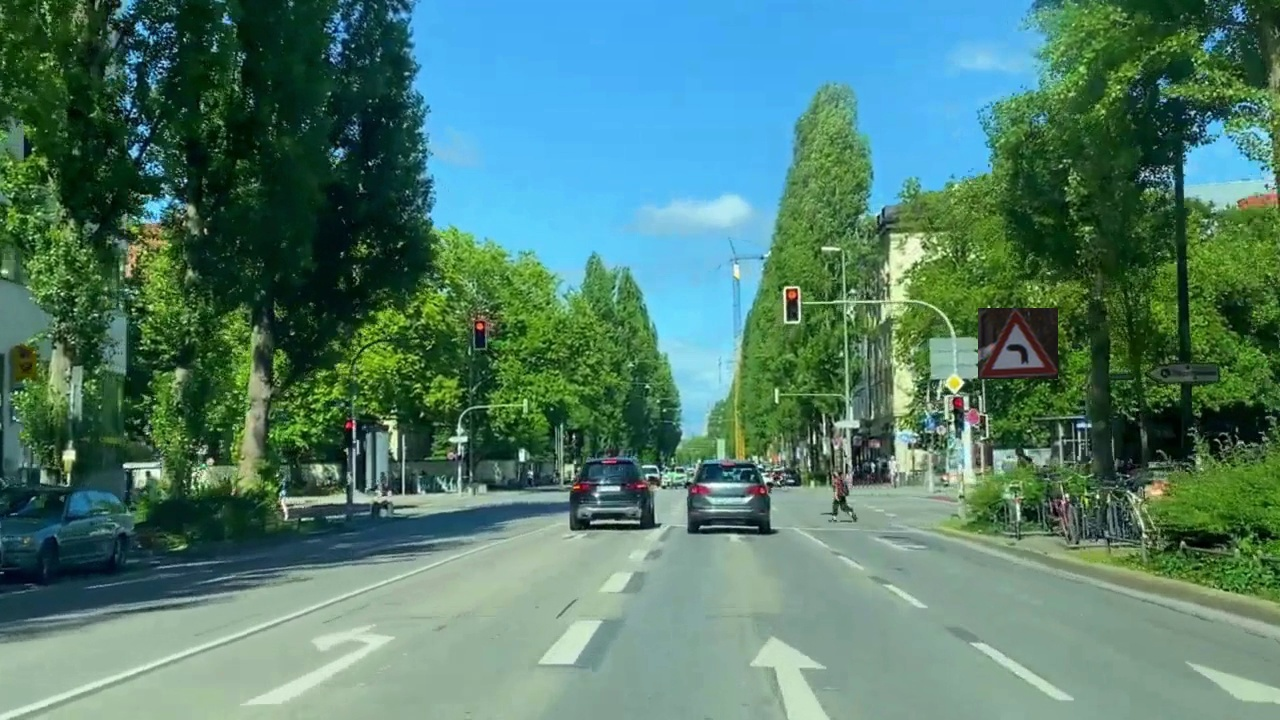Curve left: (978, 308, 1058, 379)
